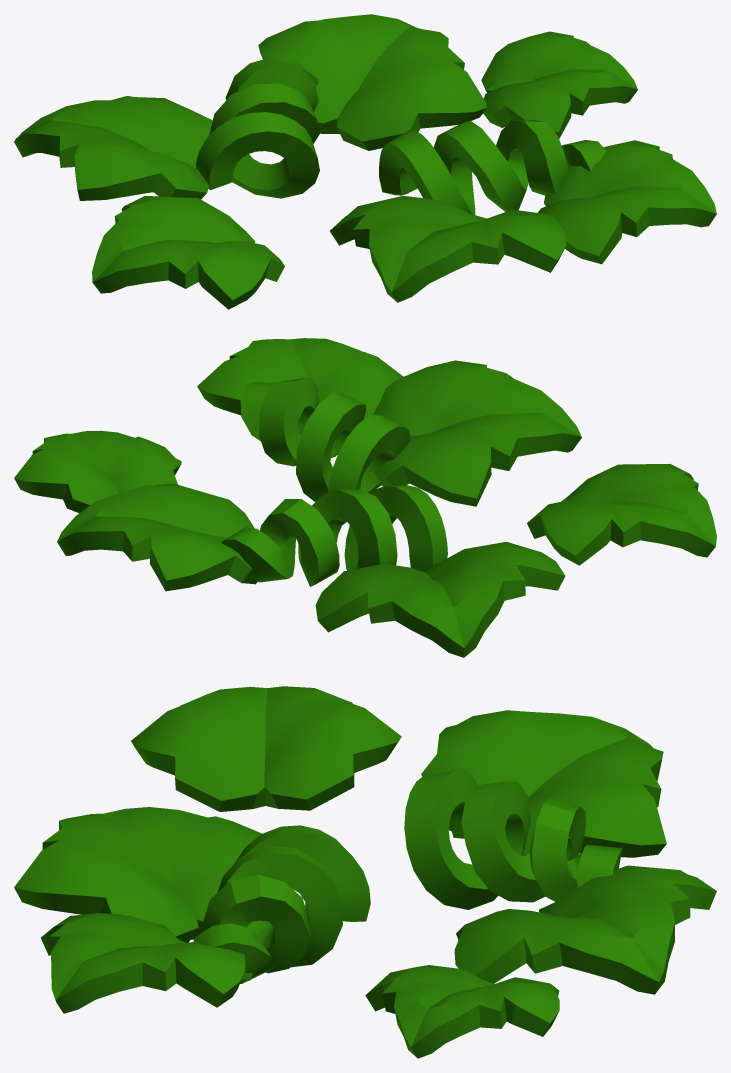
Rendered from Farm_Crop_Pumpkin_Step_01.fbx.
3 views of the same model, one above another, from view 1: azimuth 30°, elevation 25°; view 2: azimuth 150°, elevation 25°; view 3: azimuth 270°, elevation 25° (orthographic). The views are drawn at different scales.
Visible parts, largest first — view 1: Farm_Crop_Pumpkin_Step_01; view 2: Farm_Crop_Pumpkin_Step_01; view 3: Farm_Crop_Pumpkin_Step_01.
Part boxes in pixels (x1,y1,x2,y2): Farm_Crop_Pumpkin_Step_01: [14, 14, 716, 309]; Farm_Crop_Pumpkin_Step_01: [14, 338, 716, 657]; Farm_Crop_Pumpkin_Step_01: [14, 686, 716, 1058].
Size of the model in its own units: 169 by 28.13 by 145.
